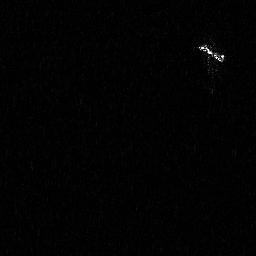ship: (195, 41, 225, 63)
